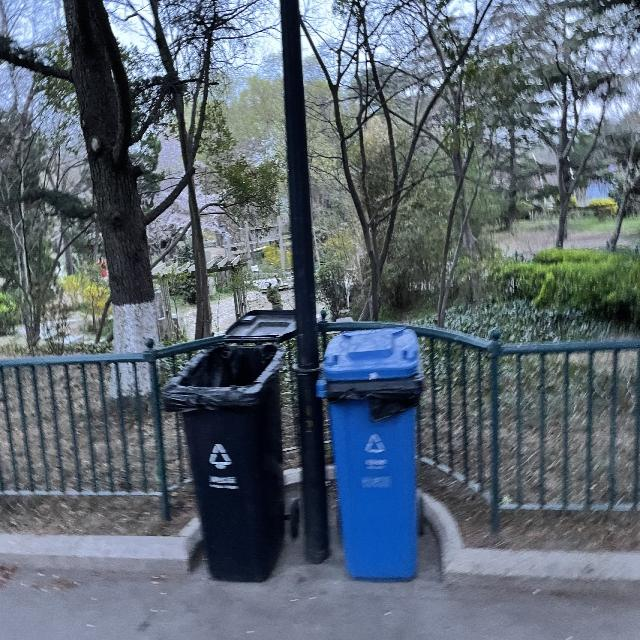garbage_bin: (160, 339, 282, 583), (315, 327, 424, 583)
